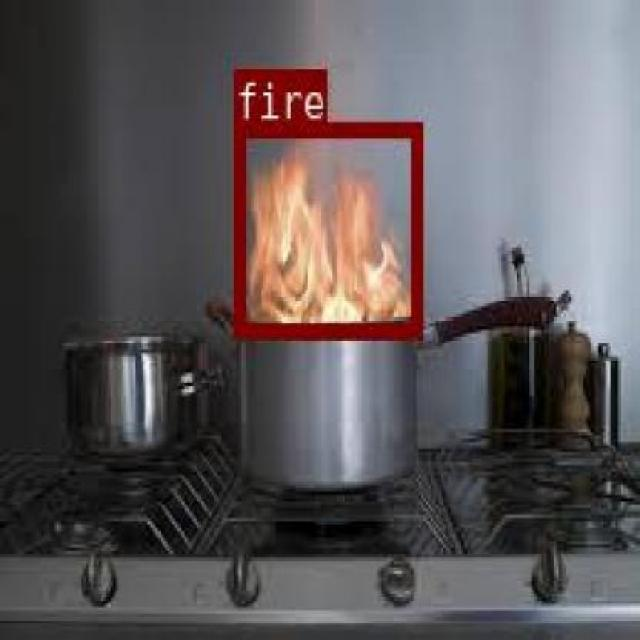Fire: (232, 119, 420, 333)
